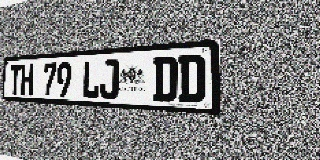7: (42, 63, 57, 97)
9: (56, 62, 72, 98)
D: (178, 54, 205, 103), (153, 56, 177, 102)
H: (21, 64, 33, 96)
J: (100, 59, 119, 100)
L: (82, 60, 100, 99)
T: (9, 64, 21, 95)
